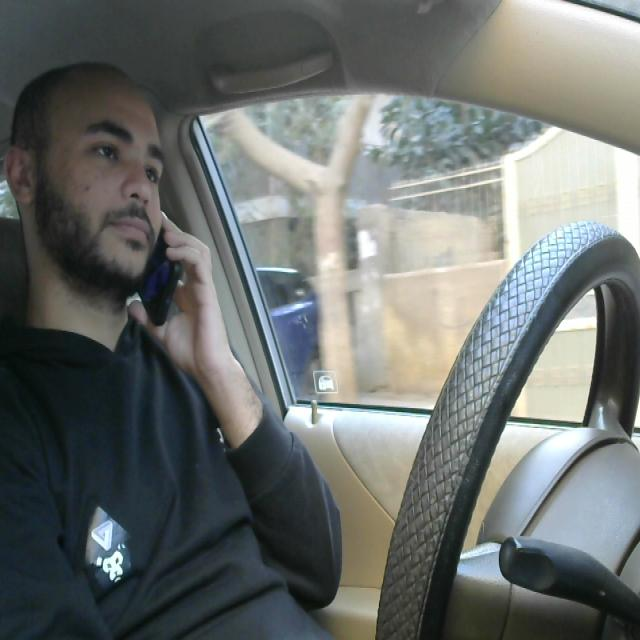mobile use: (127, 198, 185, 336)
